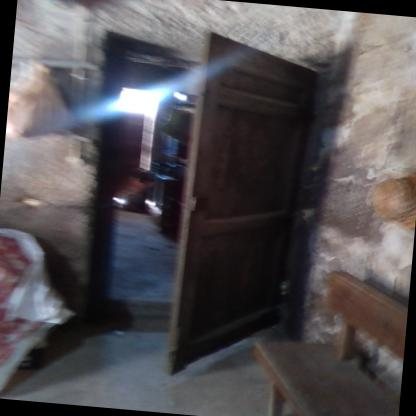semi: (64, 20, 336, 390)
